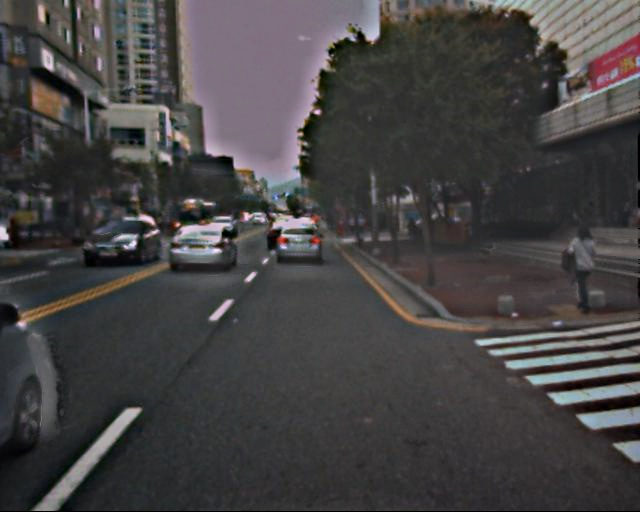person: (563, 220, 602, 313)
